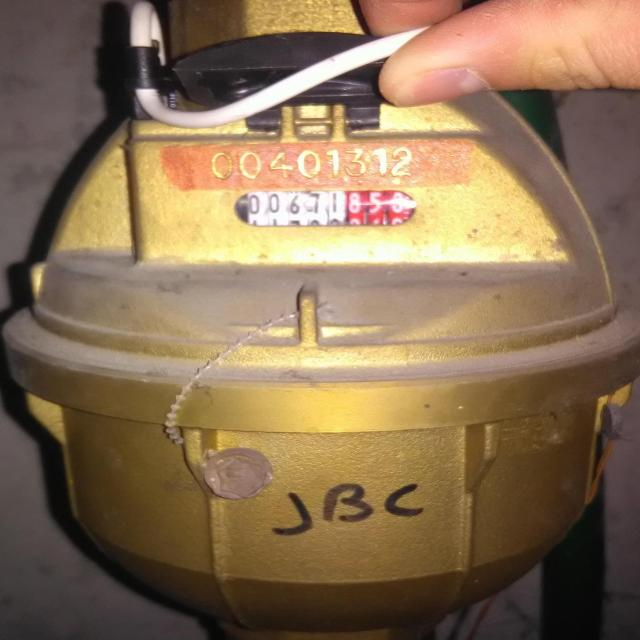gaz_meter: (106, 125, 584, 355)
indication: (230, 186, 411, 224)
